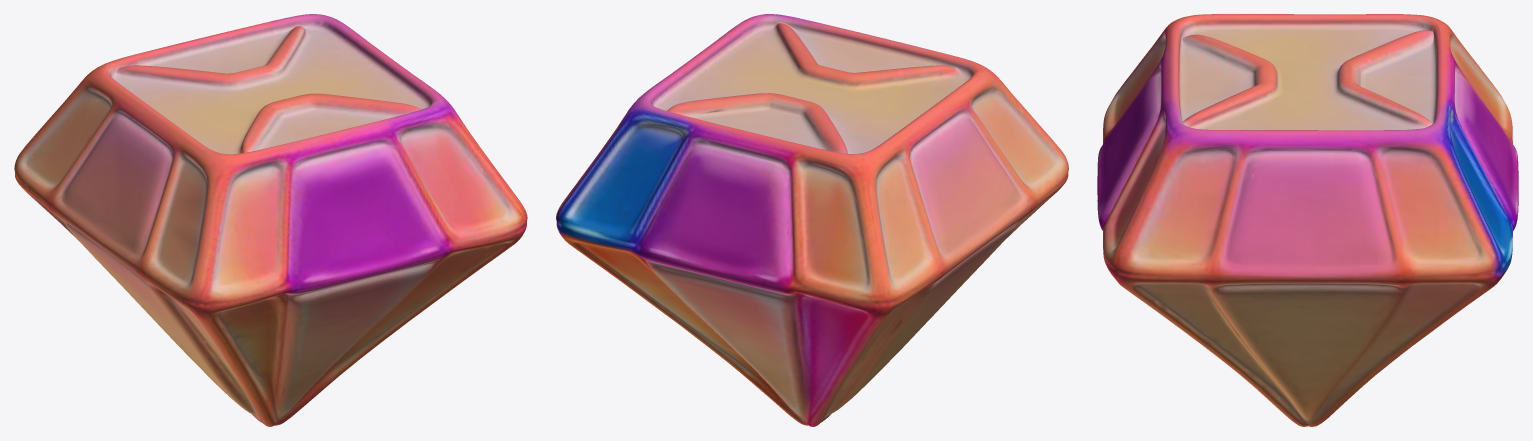
Rendered from diamond__main__r2__p2.glb.
3 views of the same model, side by side, from view 1: azimuth 30°, elevation 25°; view 2: azimuth 150°, elevation 25°; view 3: azimuth 270°, elevation 25° (orthographic). The views are drawn at different scales.
Visible parts, largest first — view 1: material; view 2: material; view 3: material.
Boxes of the visible parts, box(x1,y1,x2,y2) form: material: box(14, 14, 527, 426); material: box(556, 14, 1068, 426); material: box(1097, 14, 1518, 426).
Bounding box in the file's own units: 0.8929 × 0.8243 × 0.8927.
Materials: 1 (1 with a texture image).
